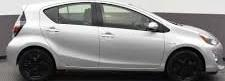Cars: (8, 2, 223, 81)
